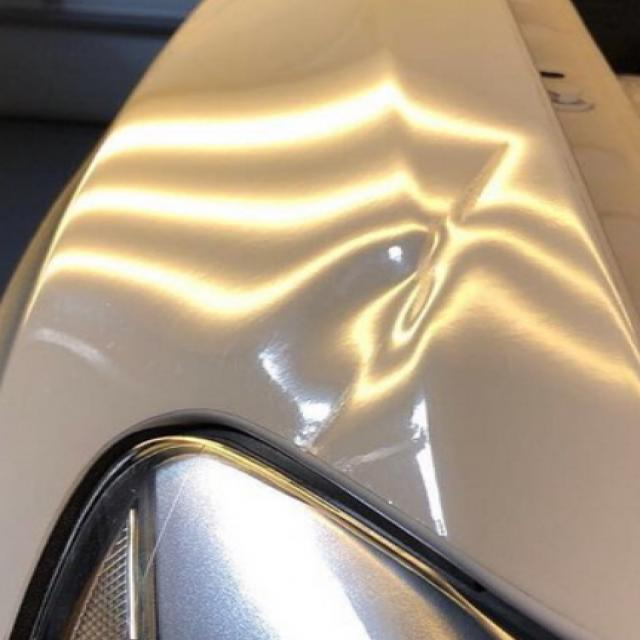dents: (244, 232, 552, 434)
